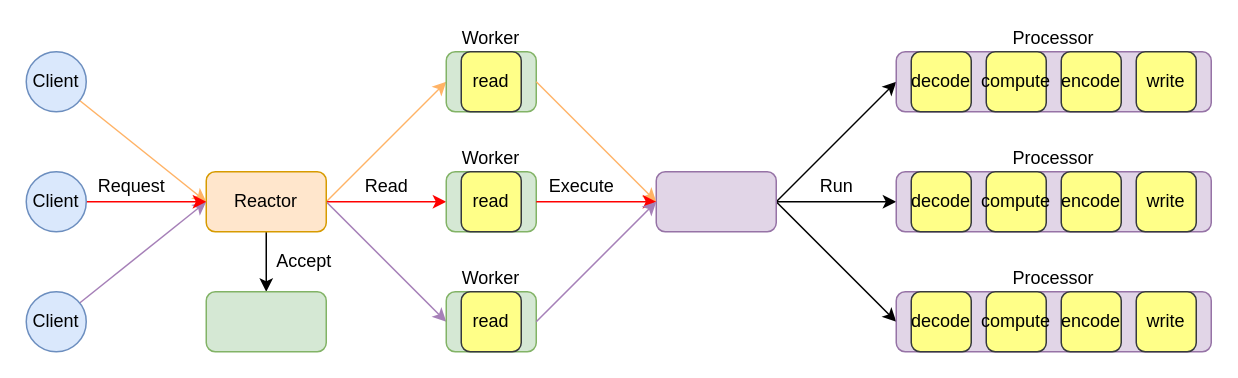
This 1238x378 diagram has some shape labels left out. Each missing label, with the box of its shape:
Accepter: (205, 290, 326, 352)
ThreadPool: (655, 170, 776, 232)
